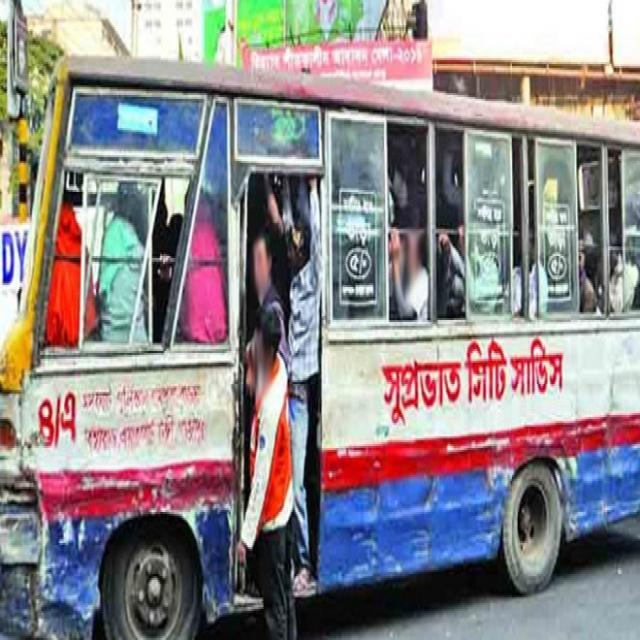bus: (1, 52, 639, 638)
